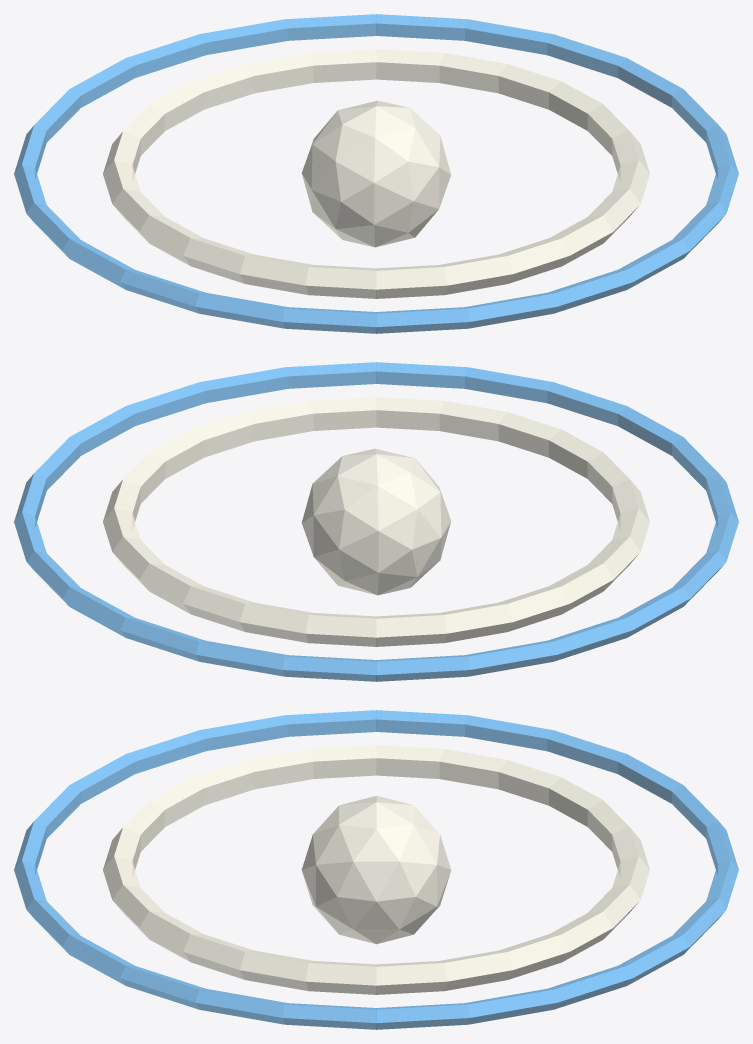
Rendered from vfx_parry_flash.glb.
The picture shows the model from 3 angles, top to bottom: view 1: azimuth 30°, elevation 25°; view 2: azimuth 150°, elevation 25°; view 3: azimuth 270°, elevation 25°; orthographic projection.
Visible parts, largest first — view 1: flash_ring, counter_ring, core; view 2: flash_ring, counter_ring, core; view 3: flash_ring, counter_ring, core.
Boxes of the visible parts, box(x1,y1,x2,y2) form: flash_ring: box(103, 49, 649, 298); counter_ring: box(14, 14, 738, 333); core: box(301, 100, 451, 247); flash_ring: box(103, 397, 649, 646); counter_ring: box(14, 362, 738, 681); core: box(301, 448, 451, 595); flash_ring: box(103, 745, 649, 994); counter_ring: box(14, 710, 738, 1029); core: box(301, 795, 451, 944).
Bounding box in the file's own units: 1.55 × 0.32 × 1.55.
